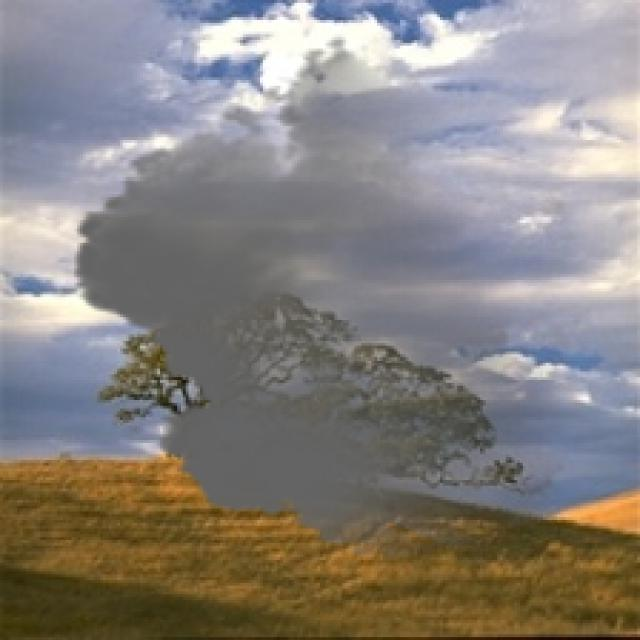smoke: (54, 34, 592, 557)
